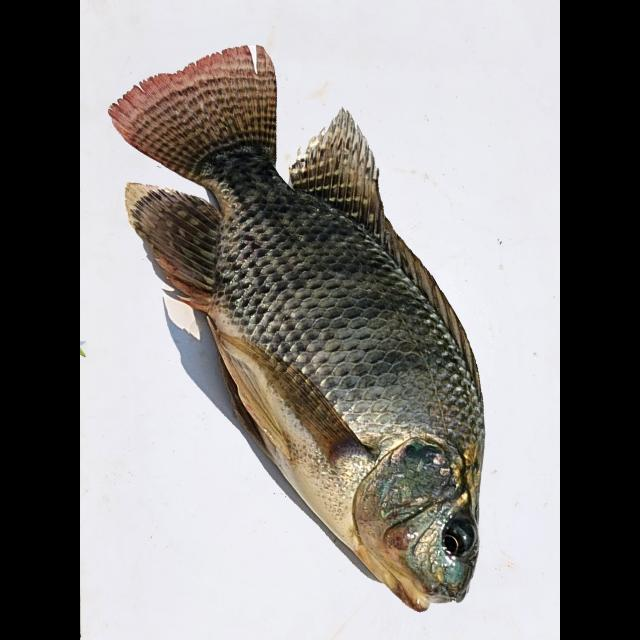Tilapia: (108, 42, 486, 612)
